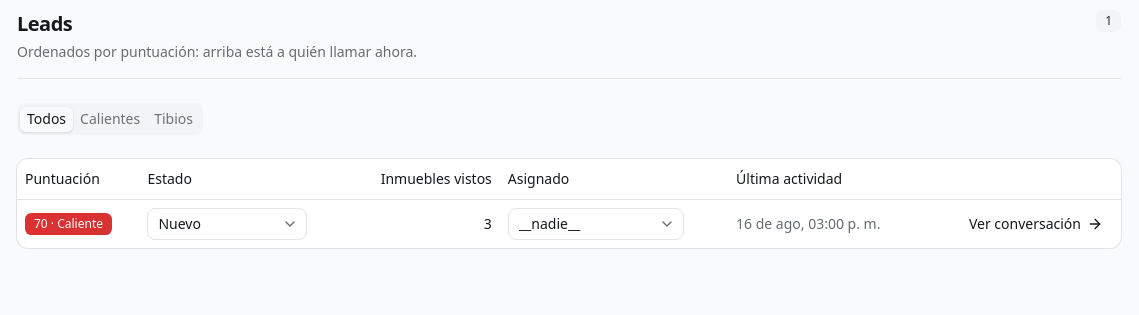
Test case: Bandeja de leads › ofrece solo las transiciones que autoriza el servidor
Click the dropdown named "Estado del lead" at (227, 224), box [147,208,307,240]
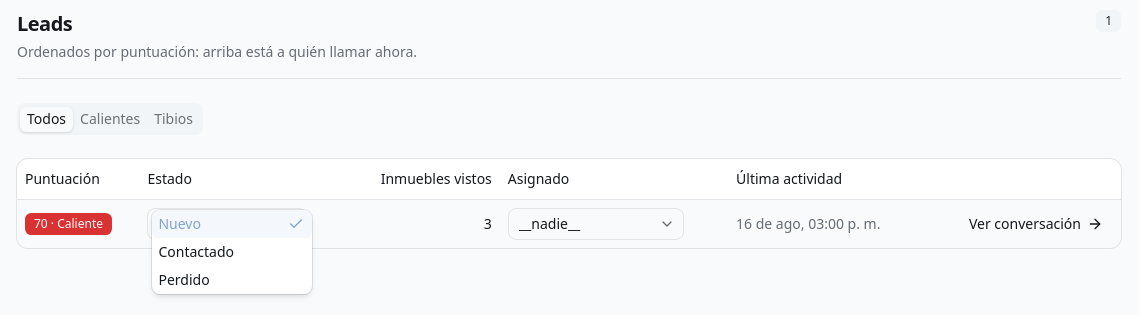
Check: the option "Contactado" is shown, box [158,242,234,260]
Check: the option "Perdido" is shown, box [158,270,210,288]
